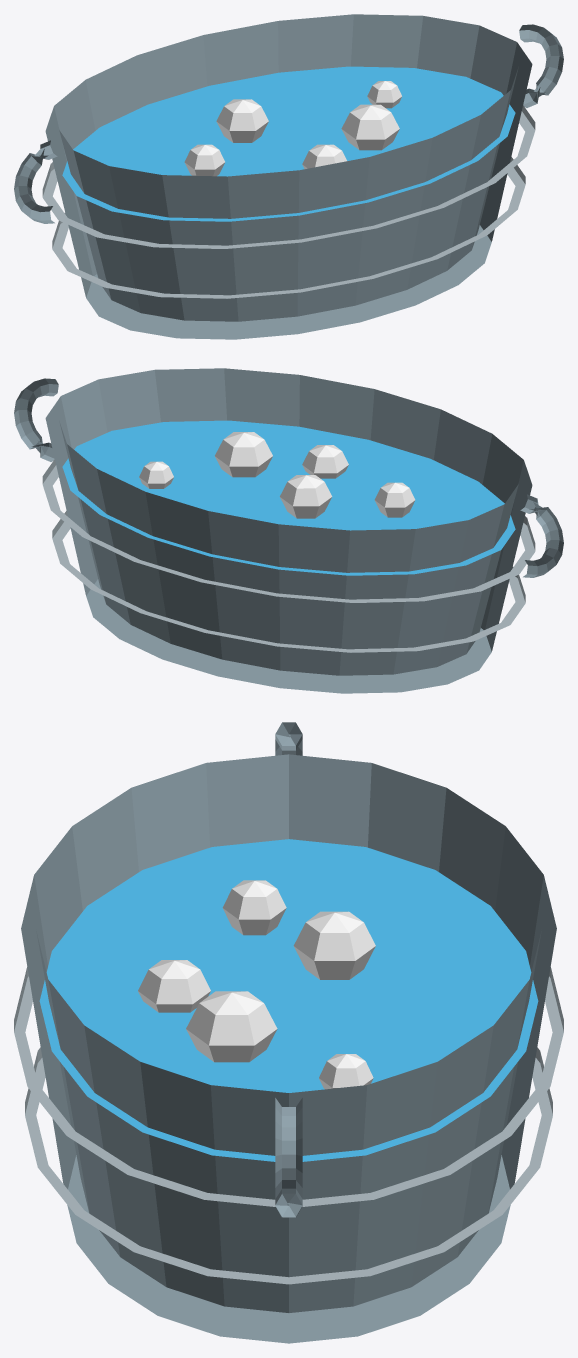
The model's file is balja.glb.
3 views of the same model, one above another, from view 1: azimuth 30°, elevation 25°; view 2: azimuth 150°, elevation 25°; view 3: azimuth 270°, elevation 25° (orthographic). The views are drawn at different scales.
Visible parts, largest first — view 1: balja; view 2: balja; view 3: balja.
Boxes of the visible parts, bbox=[...] form: balja: bbox=[14, 14, 563, 339]; balja: bbox=[14, 368, 563, 693]; balja: bbox=[14, 722, 563, 1343].
Size of the model in its own units: 0.8608 by 0.2803 by 0.4803.
